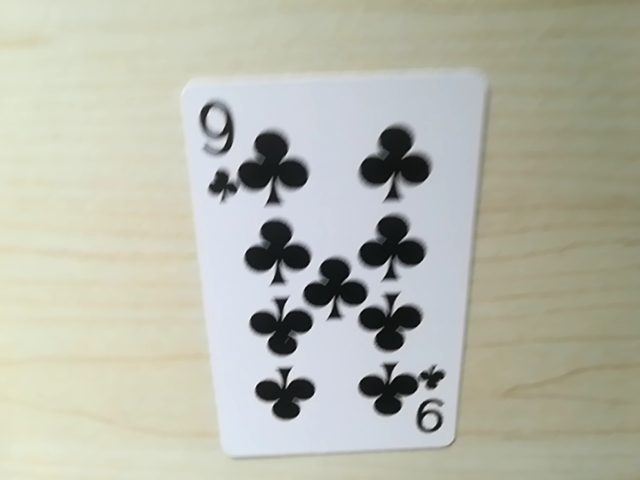mh 9: (194, 91, 245, 200), (407, 358, 453, 439)
